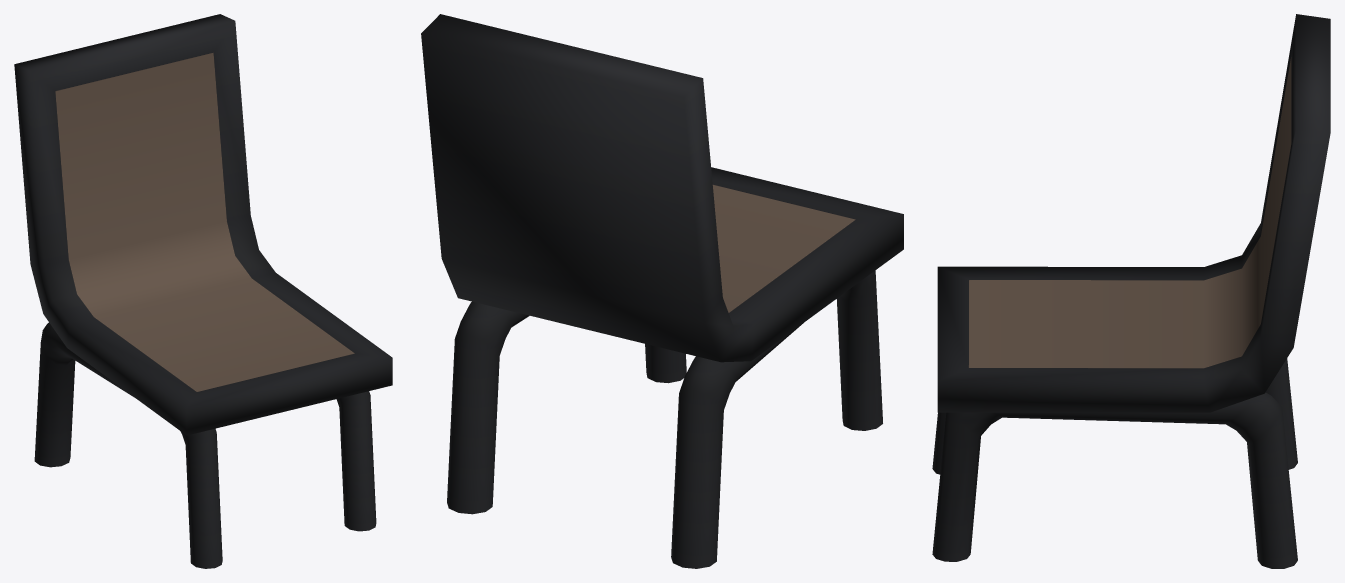
File: Chair.fbx
3 renders of one model, left to right at view 1: azimuth 30°, elevation 25°; view 2: azimuth 150°, elevation 25°; view 3: azimuth 270°, elevation 25°, orthographic. The views are drawn at different scales.
Visible parts, largest first — view 1: Chair; view 2: Chair; view 3: Chair.
Boxes of the visible parts, left/top/right/bottom form: Chair: left=14, top=14, right=392, bottom=568; Chair: left=421, top=14, right=903, bottom=568; Chair: left=932, top=14, right=1330, bottom=568.
Bounding box in the file's own units: 0.7442 × 1.33 × 1.09.
Materials: 1 (1 with a texture image).
